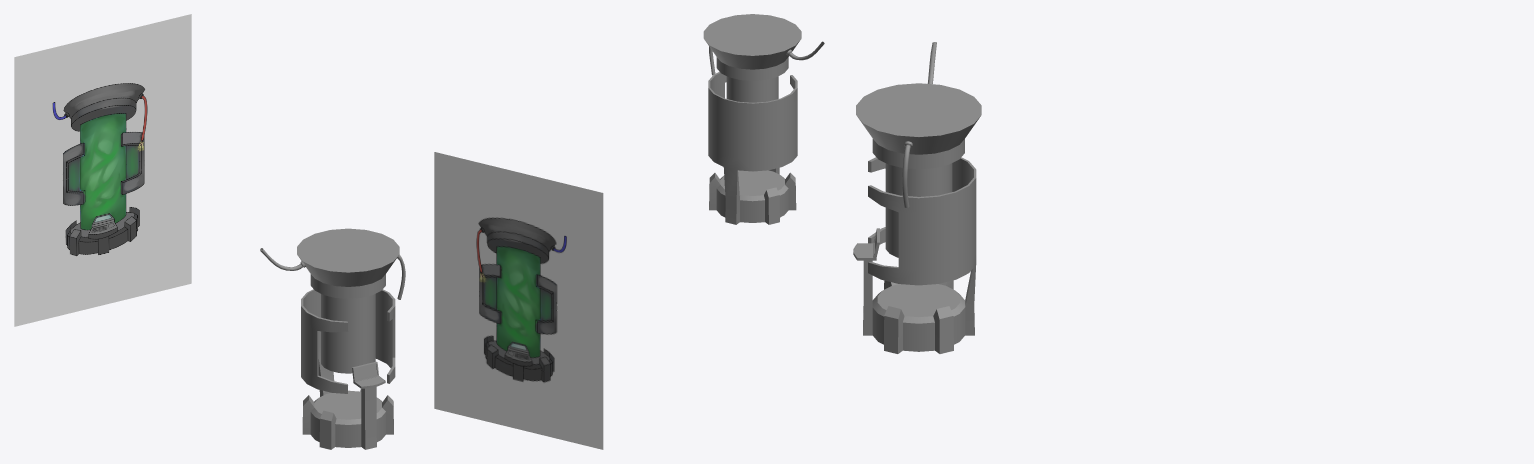
Rendered from bionictankopen.FBX.
The picture shows the model from 3 angles, left to right: view 1: azimuth 30°, elevation 25°; view 2: azimuth 150°, elevation 25°; view 3: azimuth 270°, elevation 25°; orthographic projection. The views are drawn at different scales.
Visible parts, largest first — view 1: Plane001, Cylinder001; view 2: Plane001, Cylinder001; view 3: Cylinder001.
Boxes of the visible parts, x1,y1,x2,y2 form: Plane001: (14,14,191,326); Cylinder001: (260,228,405,449); Plane001: (434,152,603,449); Cylinder001: (703,14,824,224); Cylinder001: (853,42,981,353).
Size of the model in its own units: 33.8 by 49.14 by 89.87.
